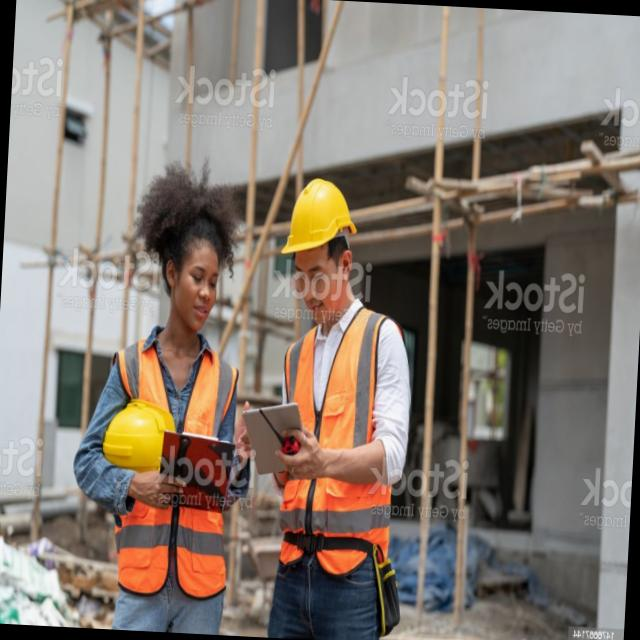helmet: (272, 174, 362, 268)
no-goggles: (165, 259, 230, 301)
no-helmet: (146, 167, 244, 283)
vest: (253, 303, 417, 588), (107, 323, 236, 592)
